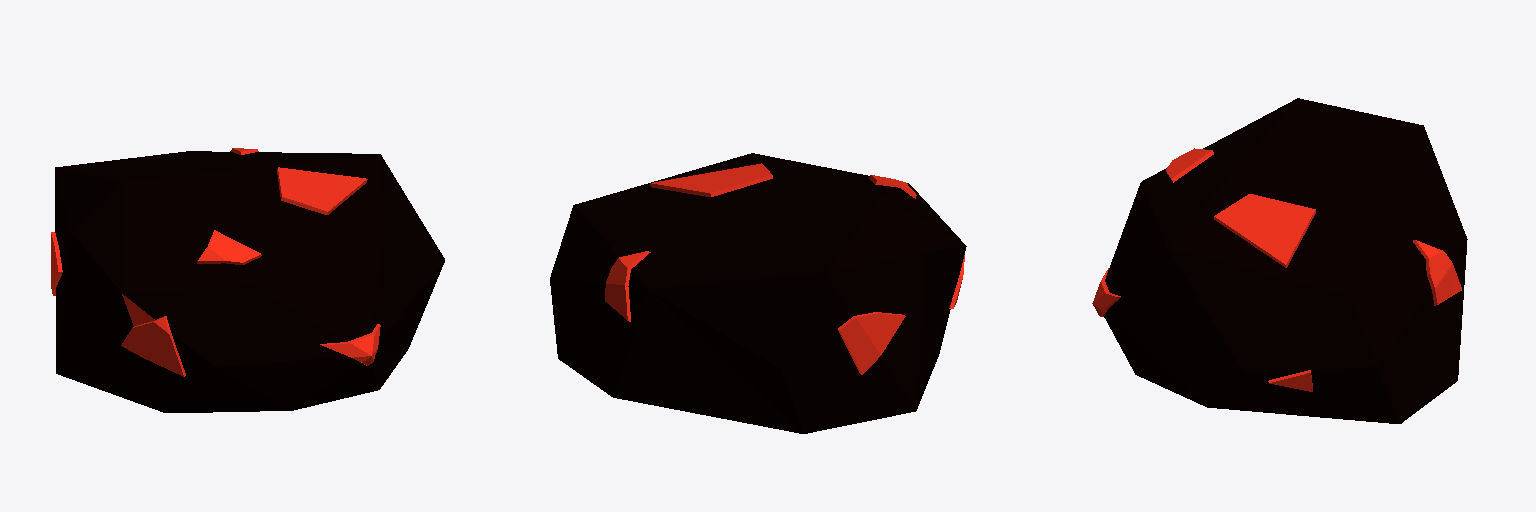
Rendered from SunstalOre.obj.
3 views of the same model, side by side, from view 1: azimuth 30°, elevation 25°; view 2: azimuth 150°, elevation 25°; view 3: azimuth 270°, elevation 25° (orthographic).
Parts seen in each view (by area): view 1: SunstalOre; view 2: SunstalOre; view 3: SunstalOre.
Part boxes in pixels (bbox=[...]): SunstalOre: bbox=[51, 148, 444, 412]; SunstalOre: bbox=[550, 153, 966, 433]; SunstalOre: bbox=[1092, 98, 1467, 423].
Size of the model in its own units: 0.3924 by 0.2098 by 0.3662.